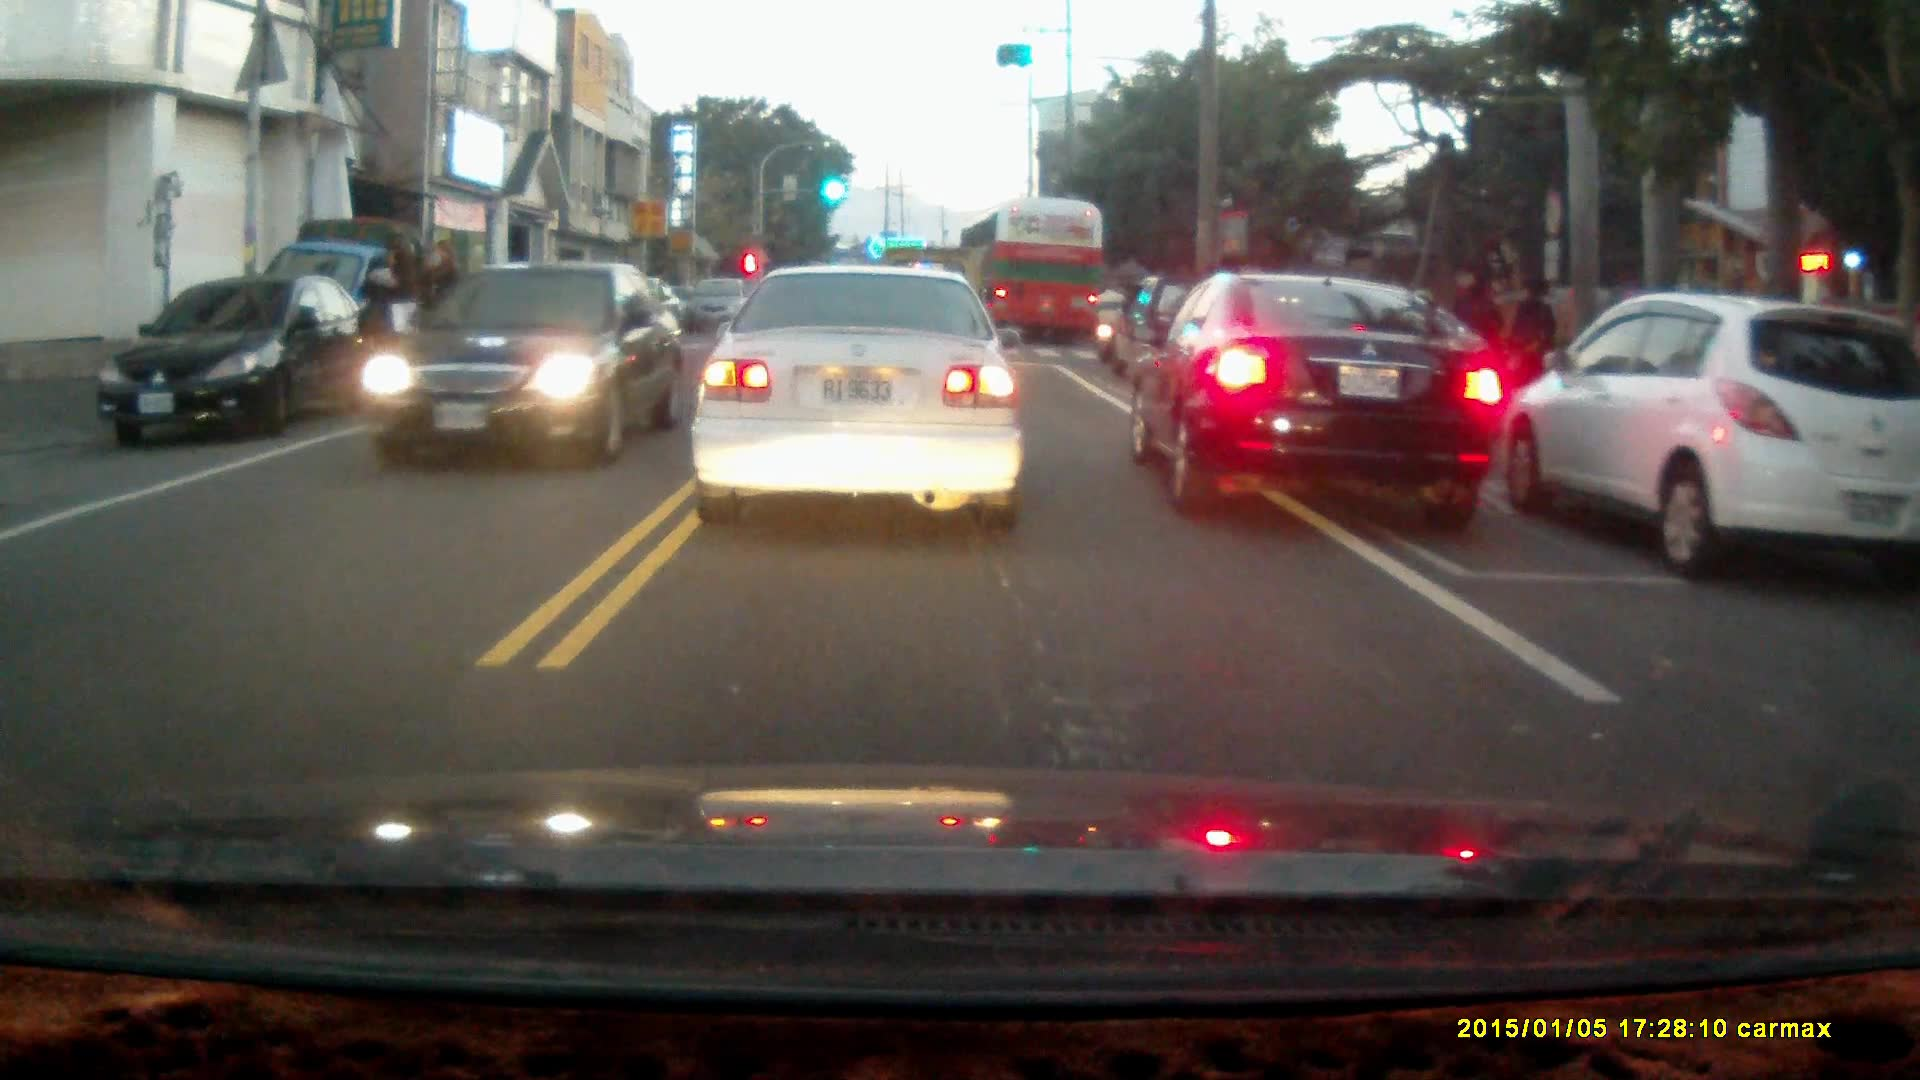pedestrian: (360, 245, 415, 401), (411, 239, 462, 388), (1506, 278, 1558, 409), (1453, 275, 1498, 398)
rider: (1089, 284, 1129, 365)
vehicle: (1489, 291, 1920, 581), (687, 263, 1028, 538), (1136, 275, 1508, 525), (363, 261, 684, 464), (95, 275, 358, 446), (249, 226, 466, 400), (961, 205, 1103, 351)
